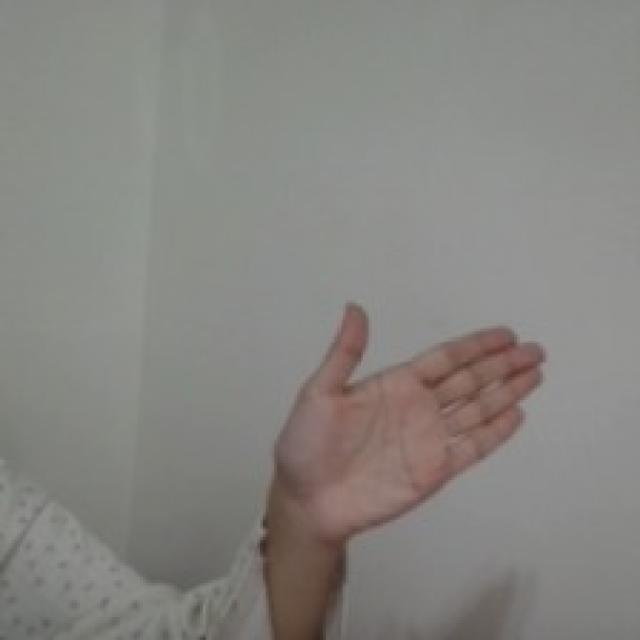Hello: (271, 296, 550, 554)
